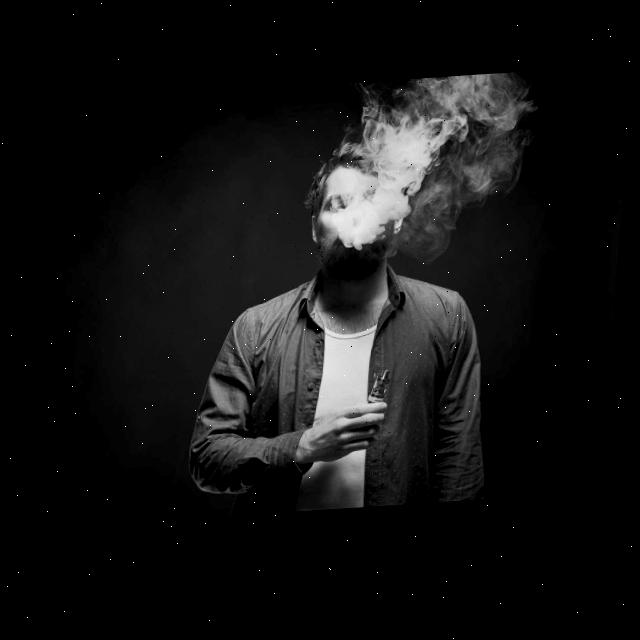vape: (374, 373, 397, 410)
